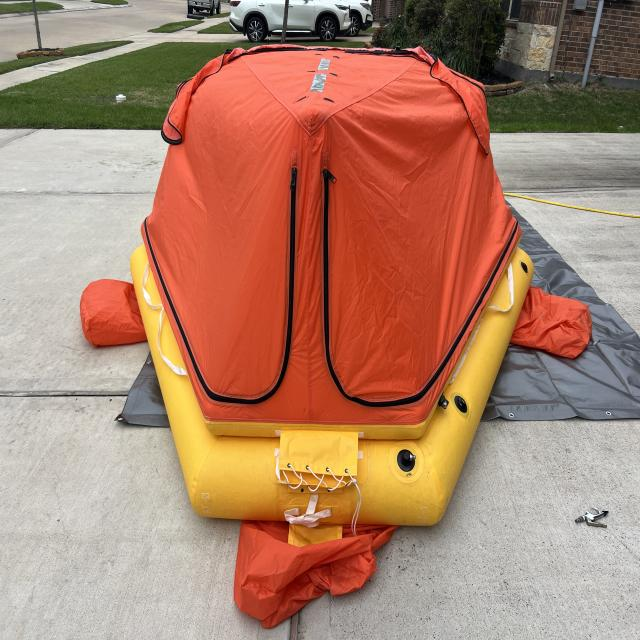Multi-person_life_raft: (79, 46, 592, 628)
